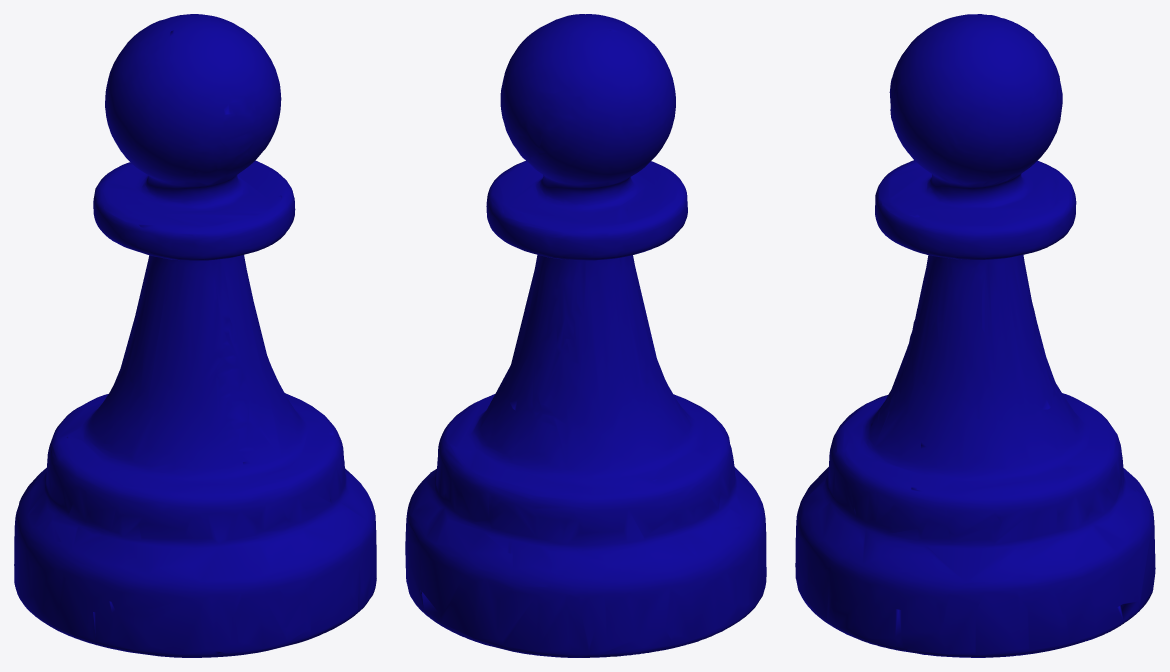
The model's file is fichaazul.glb.
The picture shows the model from 3 angles, left to right: view 1: azimuth 30°, elevation 25°; view 2: azimuth 150°, elevation 25°; view 3: azimuth 270°, elevation 25°; orthographic projection.
Parts seen in each view (by area): view 1: Mesh1.0; view 2: Mesh1.0; view 3: Mesh1.0.
Boxes of the visible parts, left/top/right/bottom form: Mesh1.0: left=14, top=14, right=376, bottom=657; Mesh1.0: left=405, top=14, right=766, bottom=657; Mesh1.0: left=795, top=14, right=1155, bottom=657.
Size of the model in its own units: 0.4603 by 0.7902 by 0.458.
